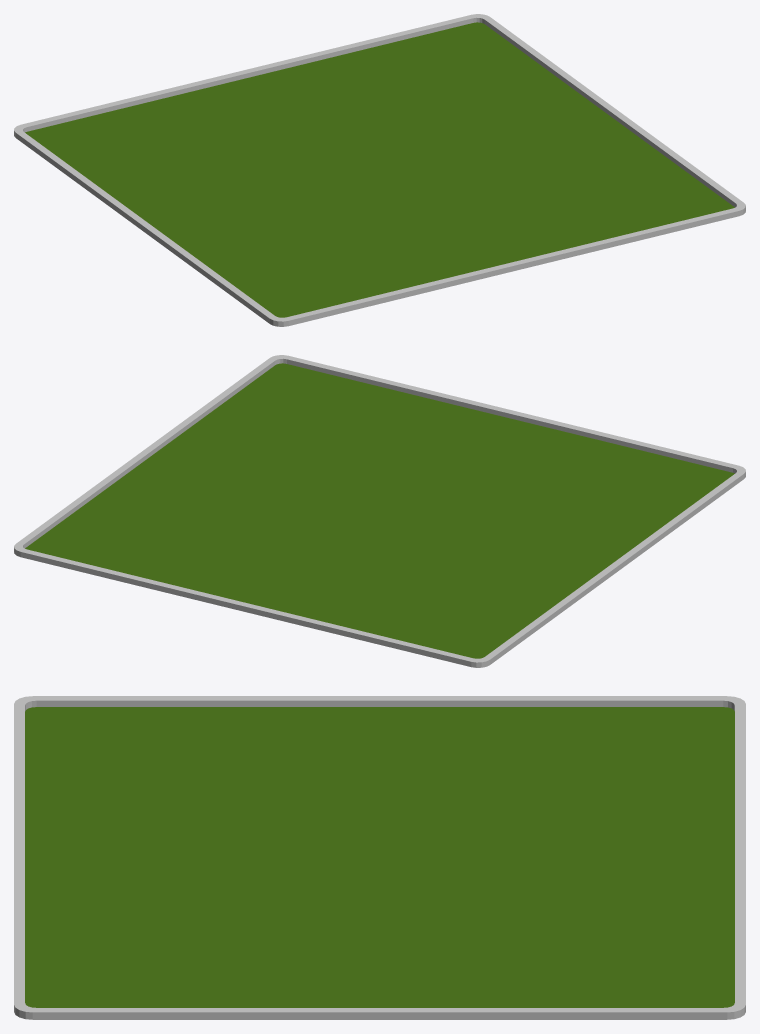
3 views of the same model, one above another, from view 1: azimuth 30°, elevation 25°; view 2: azimuth 150°, elevation 25°; view 3: azimuth 270°, elevation 25° (orthographic). The views are drawn at different scales.
Visible parts, largest first — view 1: Plane.047; view 2: Plane.047; view 3: Plane.047.
Part boxes in pixels (left/top/right/bottom): Plane.047: left=14, top=14, right=745, bottom=326; Plane.047: left=14, top=355, right=745, bottom=667; Plane.047: left=14, top=696, right=745, bottom=1019.
Size of the model in its own units: 4265 by 4172 by 46.45.
